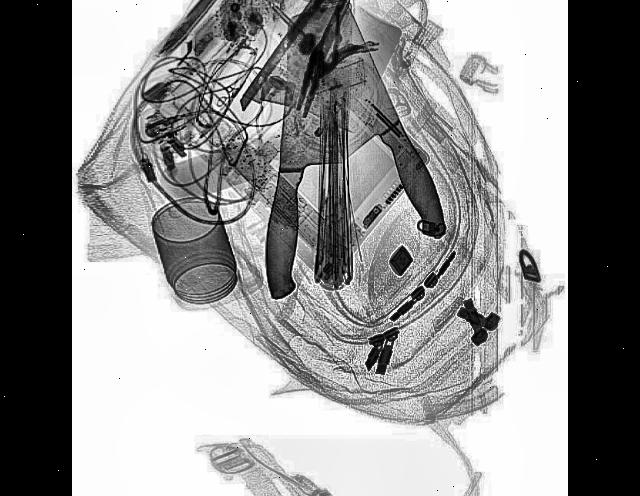Knife: (280, 0, 457, 271), (262, 1, 354, 305)
